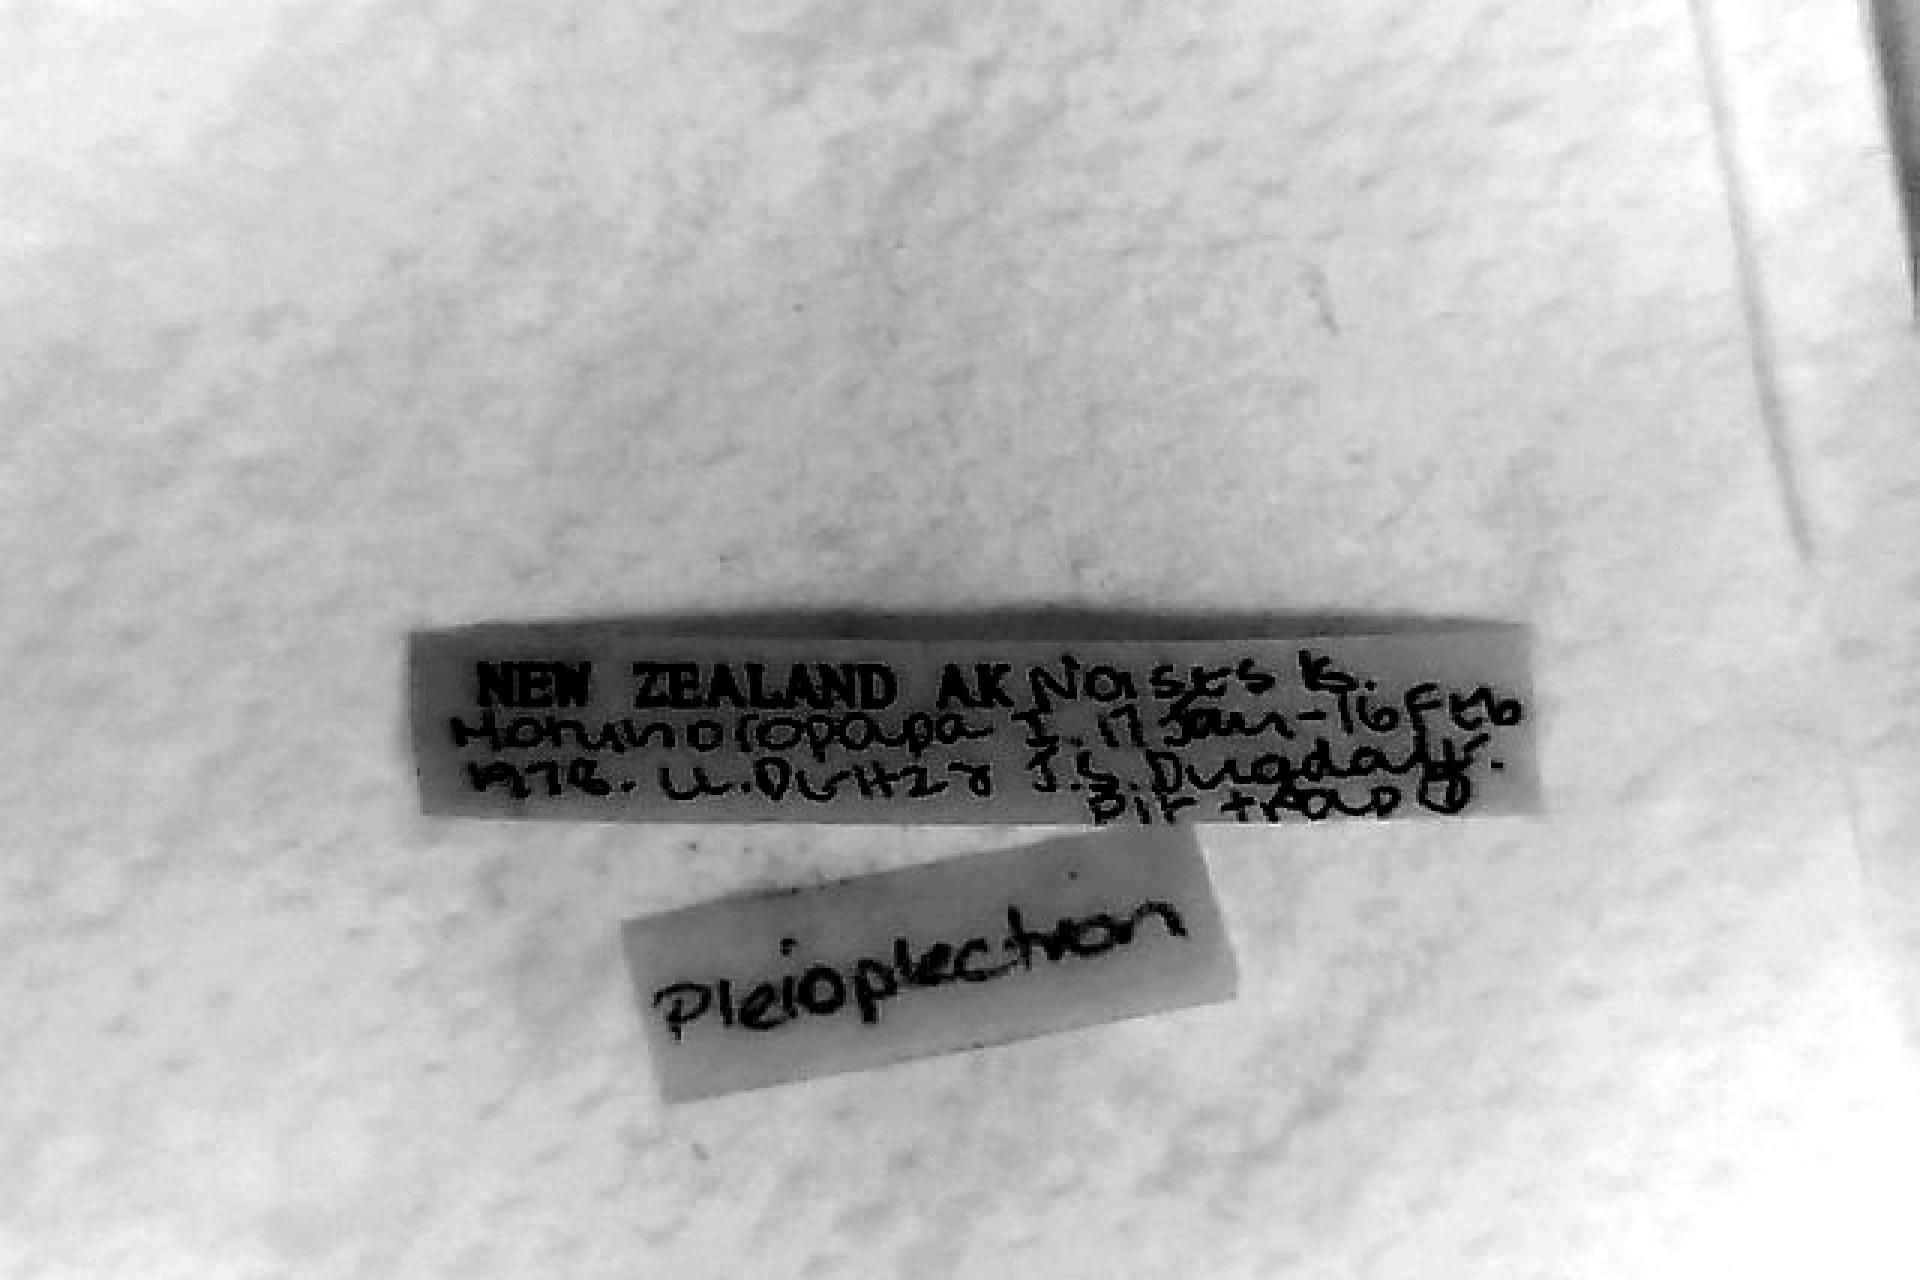hand_label: (623, 830, 1234, 1100)
mixed_label: (413, 630, 1531, 821)
